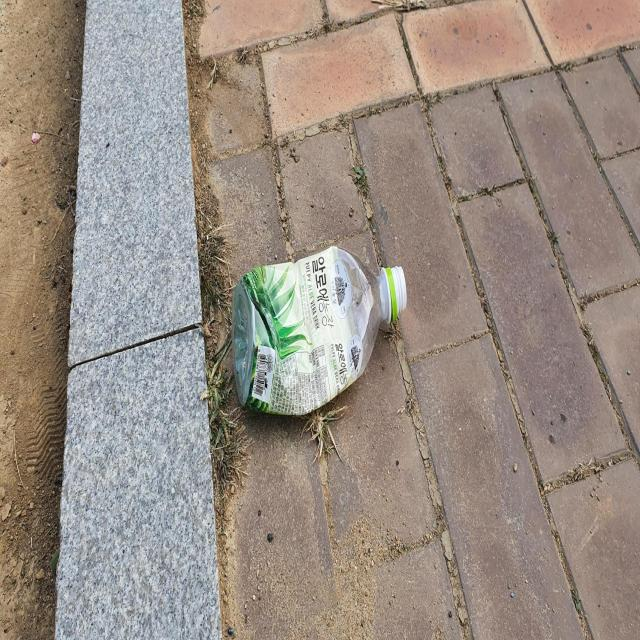plastic: (232, 245, 407, 415)
